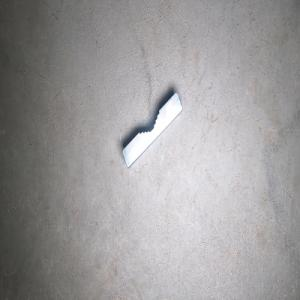ClampPart: (121, 90, 183, 168)
